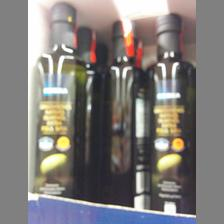Oel: (95, 17, 149, 210), (143, 11, 193, 215), (36, 3, 86, 198)
